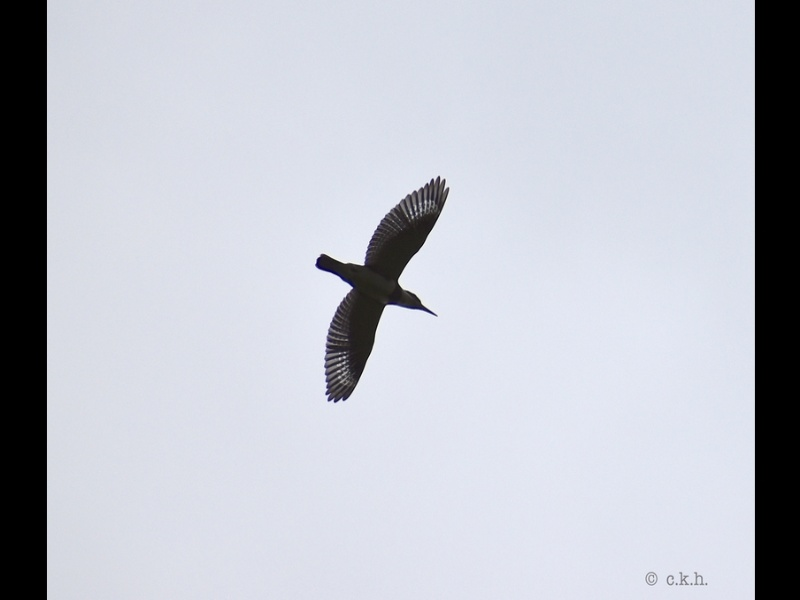kingfisher: (306, 175, 448, 404)
